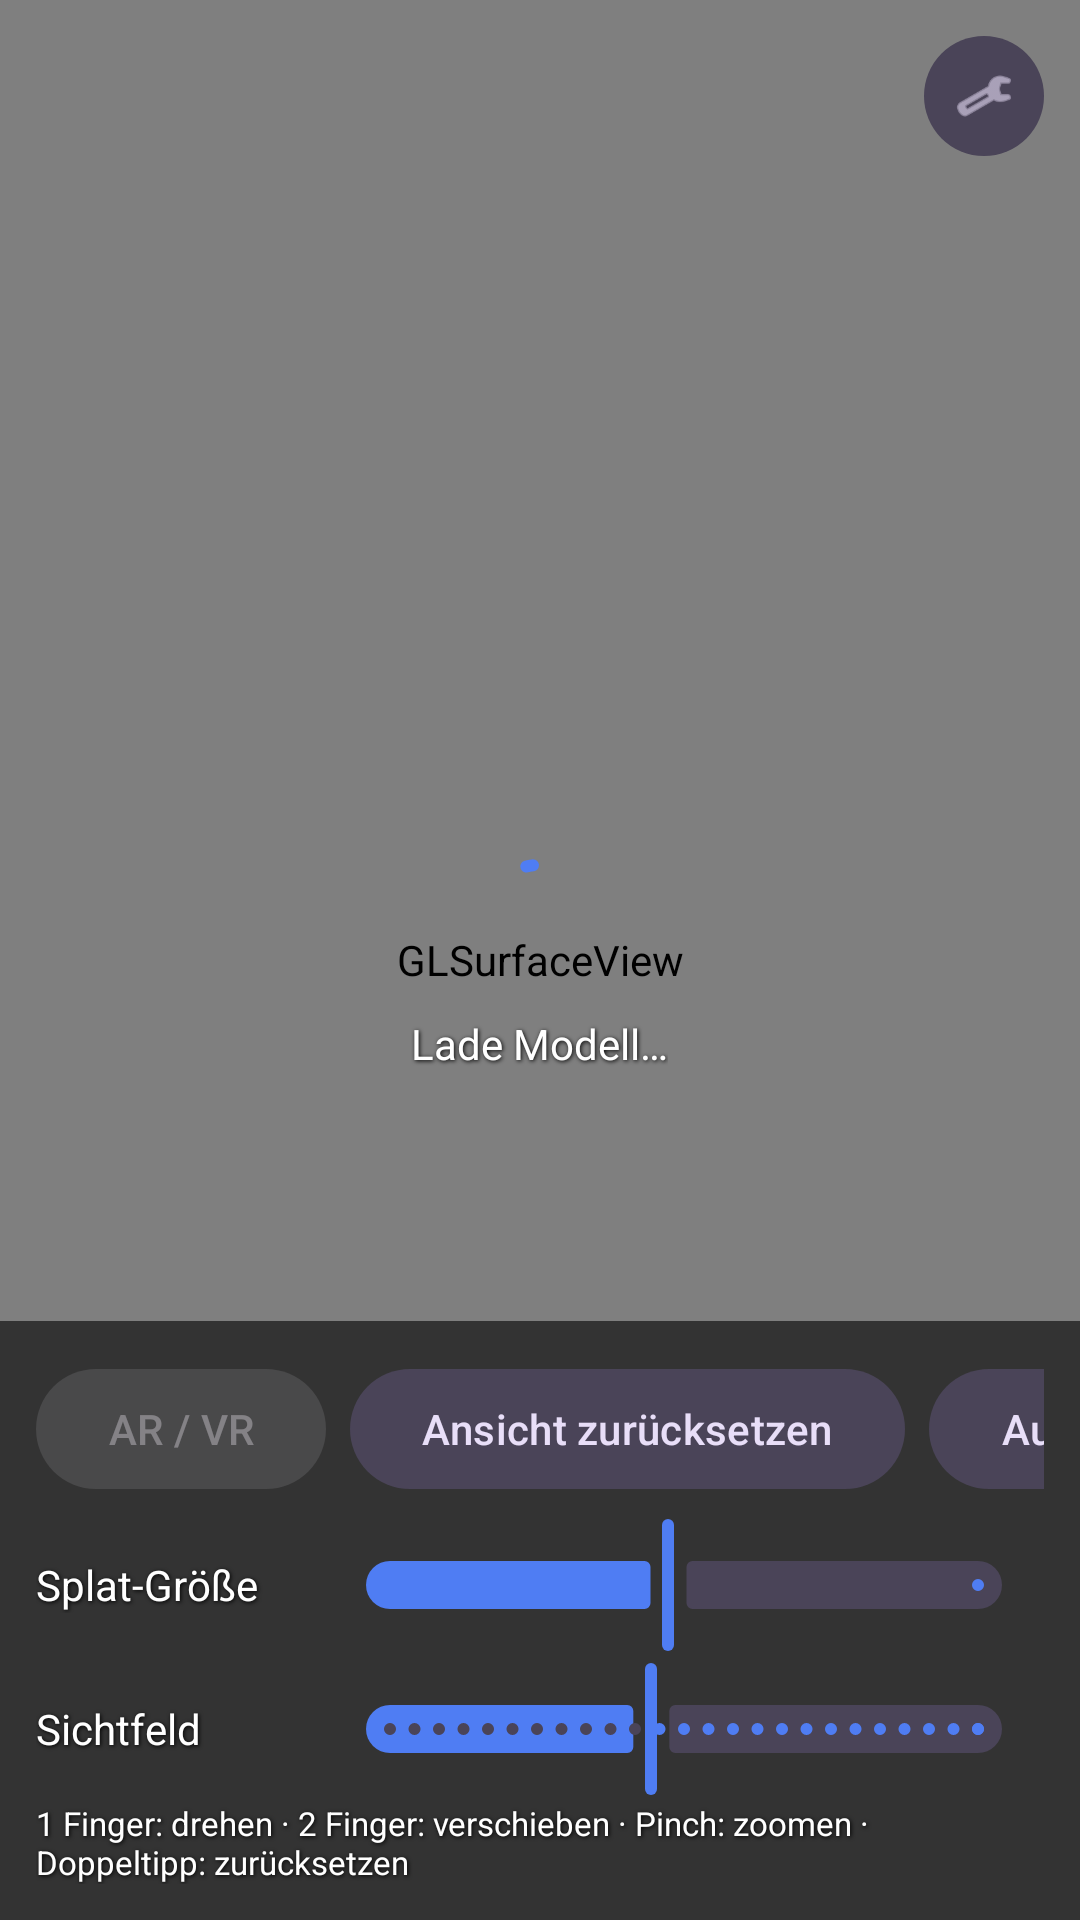

Where to tap for icons on this 1080 x 1920 app screen, as (x,y):
manage: (984,96)
